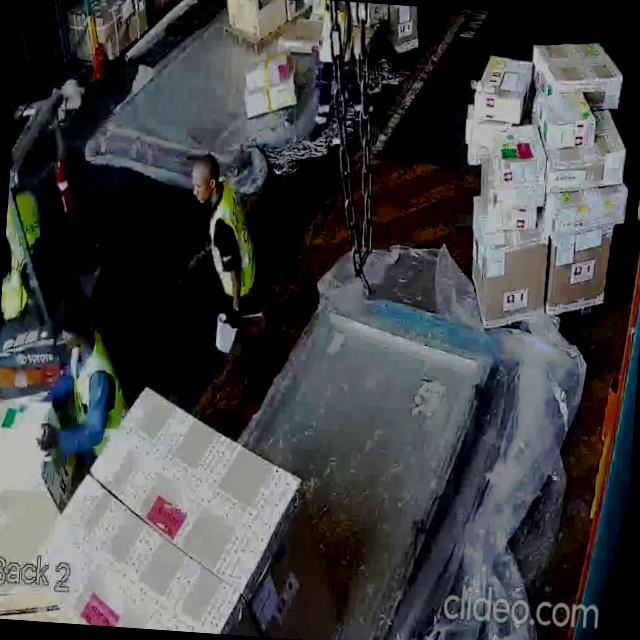Box: (466, 227, 552, 316), (544, 232, 610, 315), (532, 40, 622, 100), (487, 126, 549, 188), (472, 50, 526, 120), (241, 42, 299, 106), (556, 152, 629, 192), (553, 190, 627, 228), (542, 91, 590, 140)
